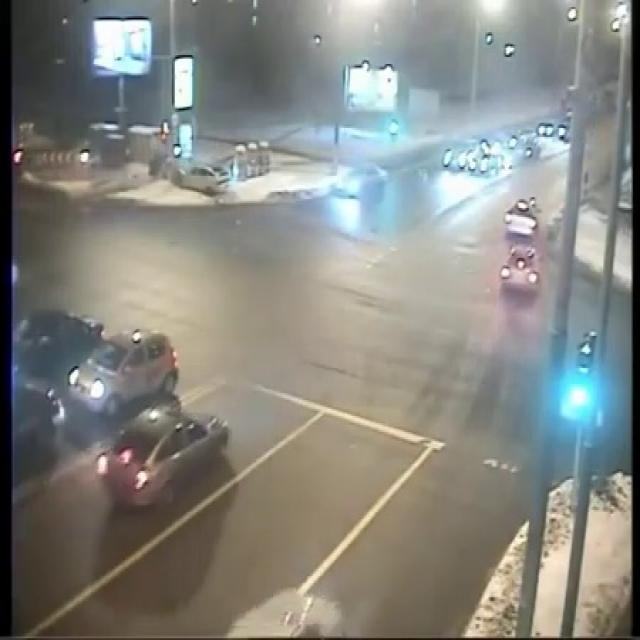accident: (148, 145, 236, 207)
